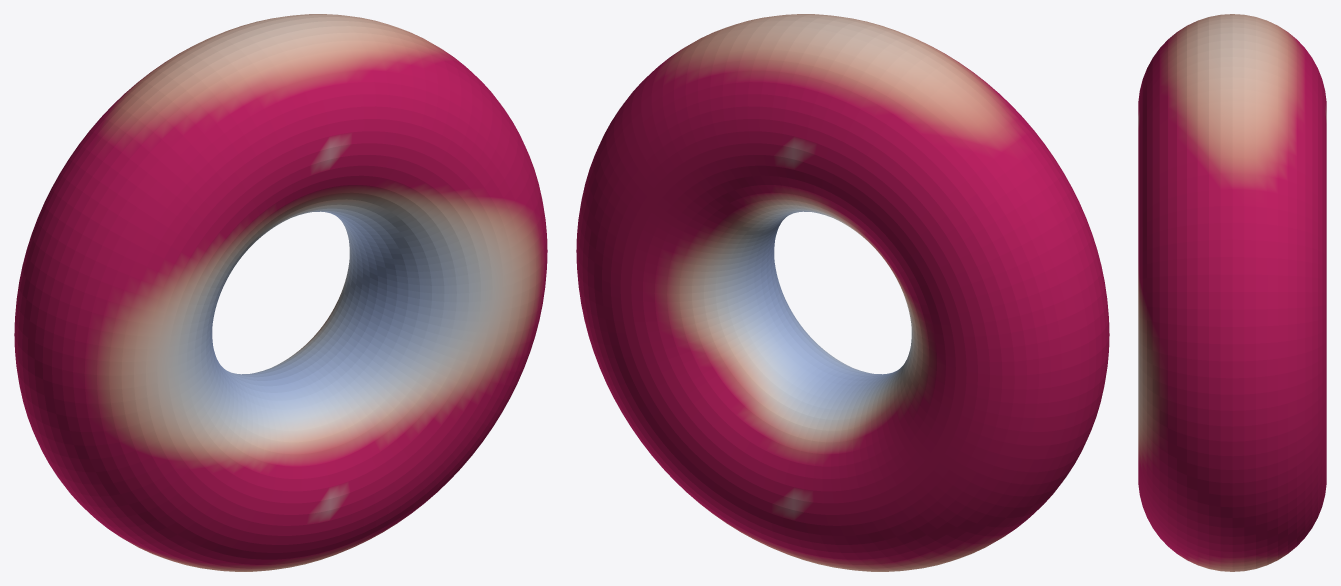
3 views of the same model, side by side, from view 1: azimuth 30°, elevation 25°; view 2: azimuth 150°, elevation 25°; view 3: azimuth 270°, elevation 25° (orthographic). The views are drawn at different scales.
Parts seen in each view (by area): view 1: world; view 2: world; view 3: world.
Part boxes in pixels (box(x1,y1,x2,y2)): world: box(14, 14, 547, 571); world: box(576, 14, 1109, 571); world: box(1138, 14, 1326, 571).
Bounding box in the file's own units: 27.2 × 27.2 × 9.18.
